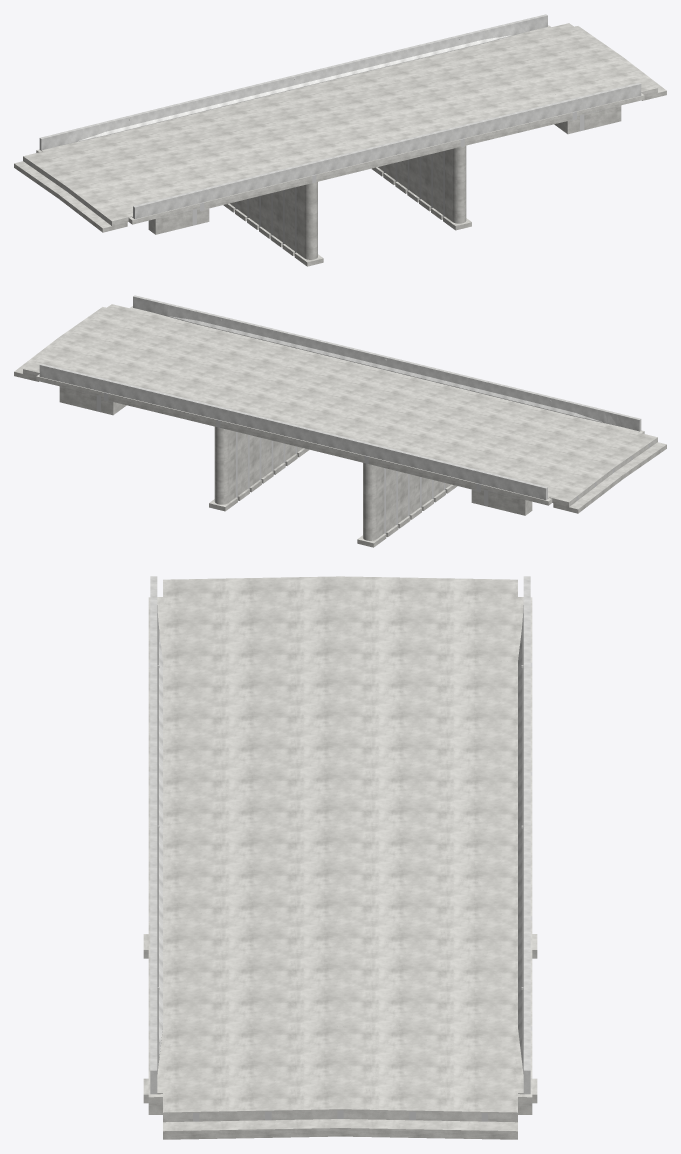
The model's file is model_render.glb.
3 renders of one model, top to bottom at view 1: azimuth 30°, elevation 25°; view 2: azimuth 150°, elevation 25°; view 3: azimuth 270°, elevation 25°, orthographic. The views are drawn at different scales.
Visible parts, largest first — view 1: deck_overlay, approach_overlay_1, approach_overlay_2, rail_2_1, rail_2_-1, pier_3_module_1, pier_2_module_1, rail_1_1, rail_3_1, rail_1_-1, rail_3_-1, sleeper_1 (+18 smaller); view 2: deck_overlay, approach_overlay_1, approach_overlay_2, rail_2_-1, rail_2_1, pier_3_module_8, pier_2_module_8, rail_1_-1, rail_3_-1, rail_1_1, rail_3_1, sleeper_1 (+18 smaller); view 3: deck_overlay, approach_overlay_2, approach_overlay_1, sleeper_2, rail_2_1, rail_2_-1, rail_3_1, rail_3_-1, rail_1_1, rail_1_-1, approach_rail_2_1, approach_rail_2_-1.
Part boxes in pixels (box(x1,y1,x2,y2)): deck_overlay: box(108, 43, 563, 192); approach_overlay_1: box(23, 135, 186, 221); approach_overlay_2: box(485, 23, 657, 100); rail_2_1: box(221, 58, 367, 106); rail_2_-1: box(314, 126, 460, 174); pier_3_module_1: box(445, 145, 466, 223); pier_2_module_1: box(296, 182, 317, 259); rail_1_1: box(109, 94, 219, 133); rail_3_1: box(369, 31, 479, 70); rail_1_-1: box(202, 162, 311, 201); rail_3_-1: box(463, 99, 571, 138); sleeper_1: box(14, 161, 127, 232); deck_overlay: box(117, 324, 572, 473); approach_overlay_1: box(494, 416, 657, 502); approach_overlay_2: box(23, 304, 195, 381); rail_2_-1: box(313, 339, 459, 387); rail_2_1: box(220, 407, 366, 455); pier_3_module_8: box(214, 426, 235, 504); pier_2_module_8: box(363, 463, 384, 540); rail_1_-1: box(461, 375, 571, 414); rail_3_-1: box(201, 312, 311, 351); rail_1_1: box(369, 443, 478, 482); rail_3_1: box(109, 380, 217, 419); sleeper_1: box(553, 442, 666, 513); deck_overlay: box(163, 658, 517, 1029); approach_overlay_2: box(157, 1026, 523, 1113); approach_overlay_1: box(157, 576, 523, 661); sleeper_2: box(163, 1119, 517, 1139); rail_2_1: box(518, 752, 530, 913); rail_2_-1: box(150, 752, 162, 913); rail_3_1: box(518, 896, 530, 1023); rail_3_-1: box(150, 896, 162, 1023); rail_1_1: box(518, 643, 530, 768); rail_1_-1: box(150, 643, 162, 768); approach_rail_2_1: box(518, 1007, 530, 1094); approach_rail_2_-1: box(150, 1007, 162, 1094).
Bounding box in the file's own units: 41.73 × 7.09 × 12.6.
3 materials, 2 textured.
